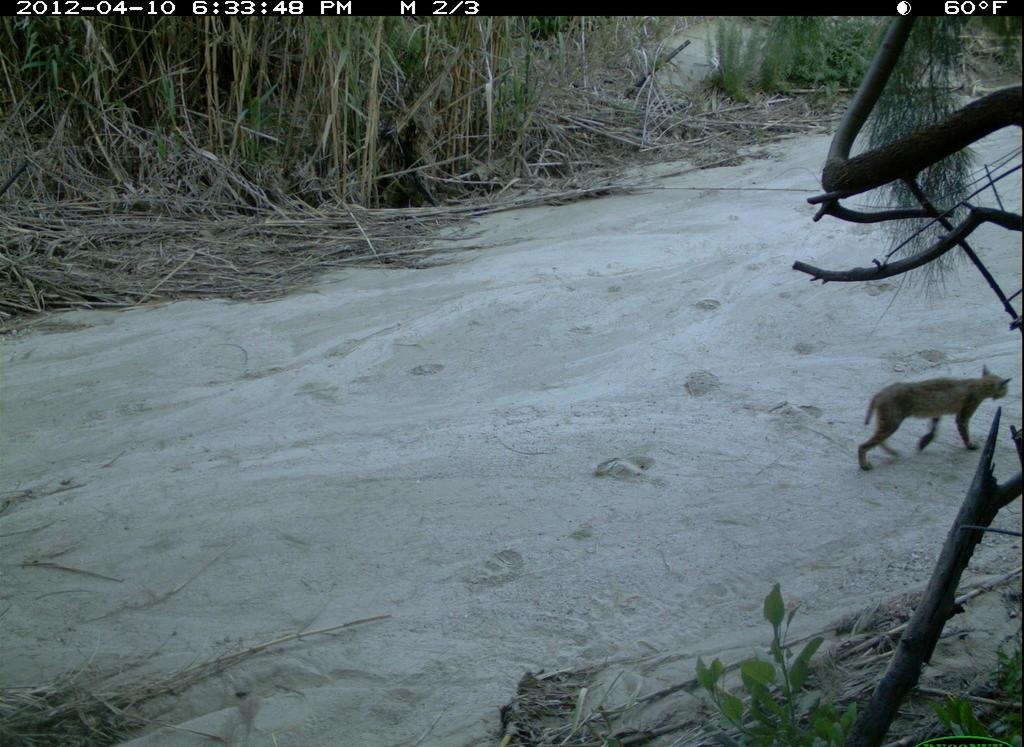bobcat: (847, 360, 1013, 475)
